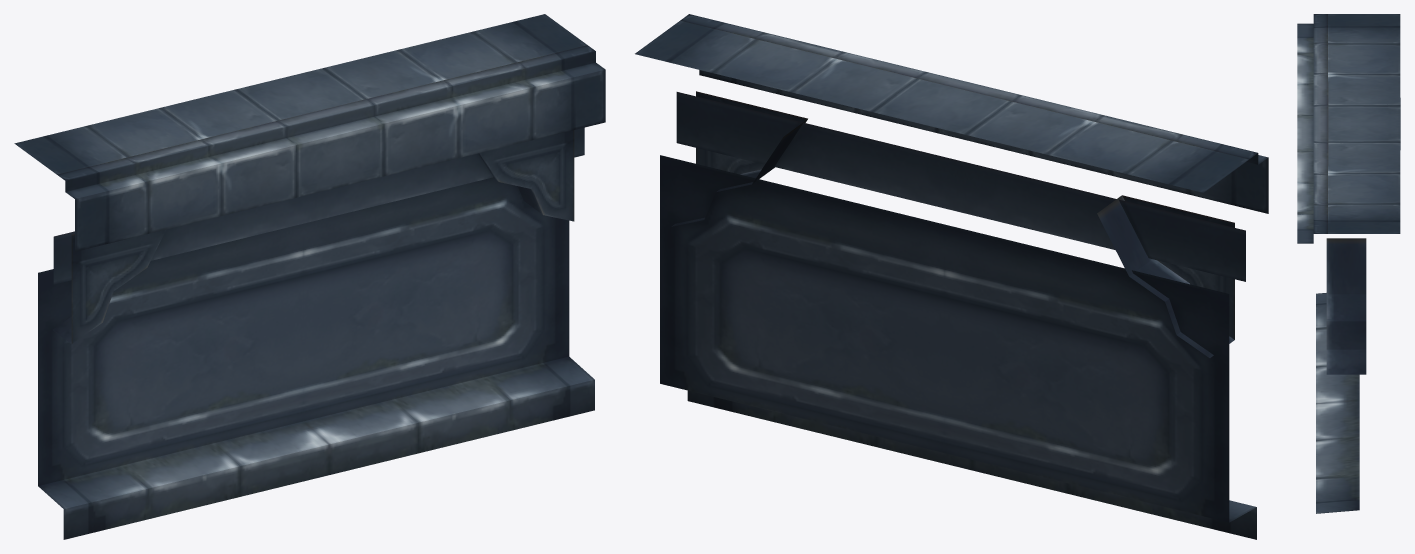
Rendered from baobian_09.FBX.
3 renders of one model, left to right at view 1: azimuth 30°, elevation 25°; view 2: azimuth 150°, elevation 25°; view 3: azimuth 270°, elevation 25°, orthographic. The views are drawn at different scales.
Visible parts, largest first — view 1: Object036; view 2: Object036; view 3: Object036.
Part boxes in pixels (bbox=[...]): Object036: bbox=[14, 14, 605, 539]; Object036: bbox=[635, 14, 1268, 539]; Object036: bbox=[1297, 14, 1400, 513].
Bounding box in the file's own units: 307 × 199 × 60.7.
